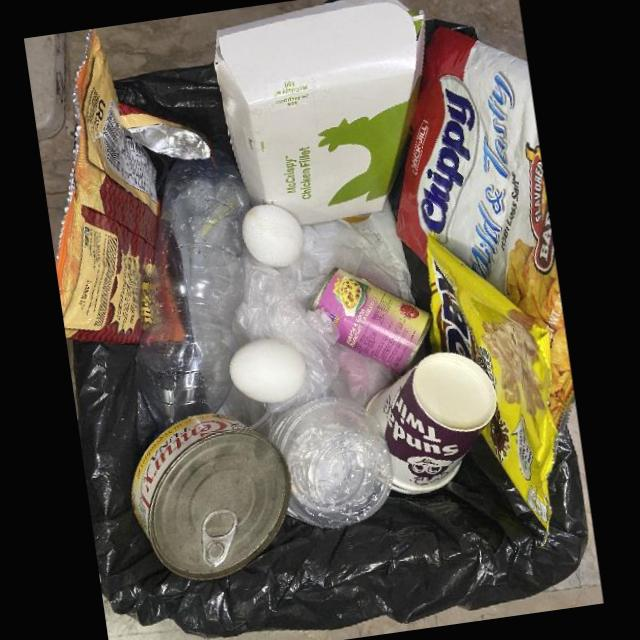bao_bi_thuc_pham: (395, 24, 575, 441), (58, 29, 211, 348), (427, 234, 560, 532)
carton: (214, 0, 425, 226), (370, 351, 497, 494)
chai_nhua: (271, 396, 394, 530)
chai_nhua_pet: (134, 147, 252, 427)
nhom: (131, 412, 292, 580), (313, 265, 434, 374)
tui_ni_long: (231, 249, 342, 437)
vo_trung: (230, 341, 309, 402), (241, 204, 304, 270)
